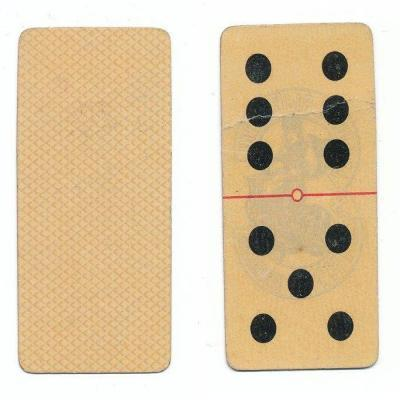graphics: (219, 22, 382, 373), (15, 27, 175, 379)
